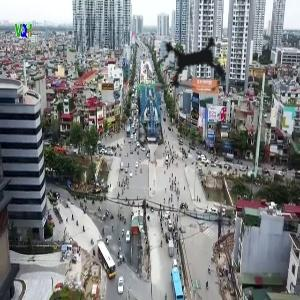drone: (130, 4, 257, 131)
